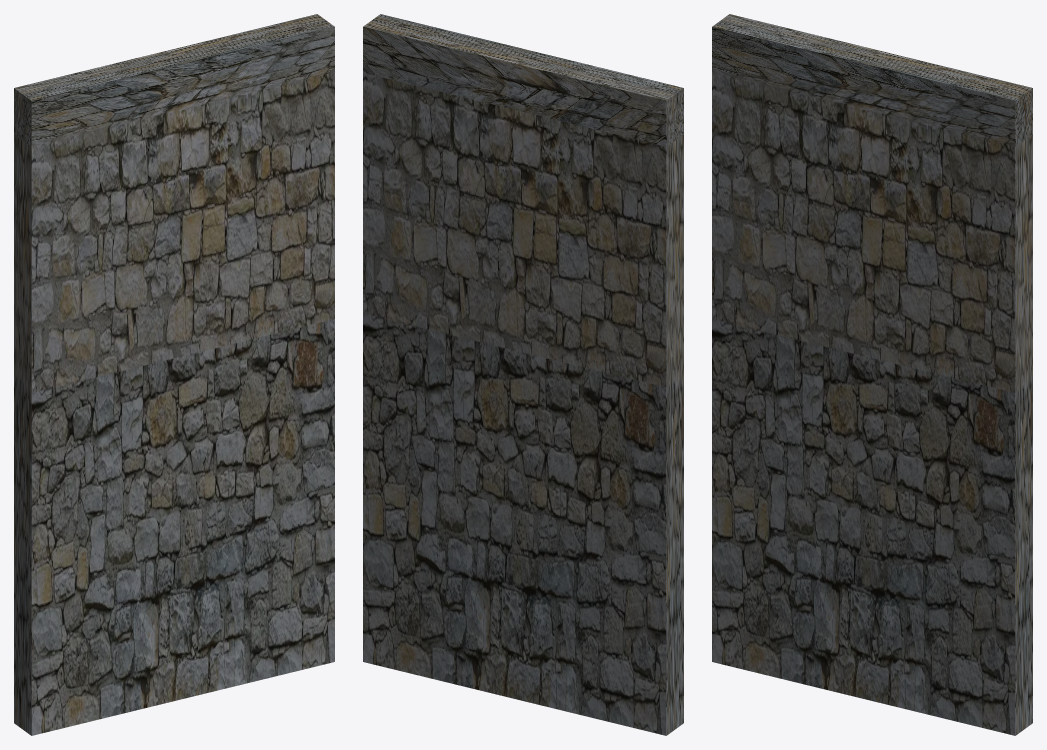
File: wall.glb
3 renders of one model, left to right at view 1: azimuth 30°, elevation 25°; view 2: azimuth 150°, elevation 25°; view 3: azimuth 330°, elevation 25°, orthographic.
Parts seen in each view (by area): view 1: Cube.001; view 2: Cube.001; view 3: Cube.001.
Boxes of the visible parts, x1,y1,x2,y2 form: Cube.001: [14, 14, 334, 735]; Cube.001: [363, 14, 683, 735]; Cube.001: [712, 14, 1032, 735].
Size of the model in its own units: 1 by 2 by 0.1.
1 material, 1 textured.
